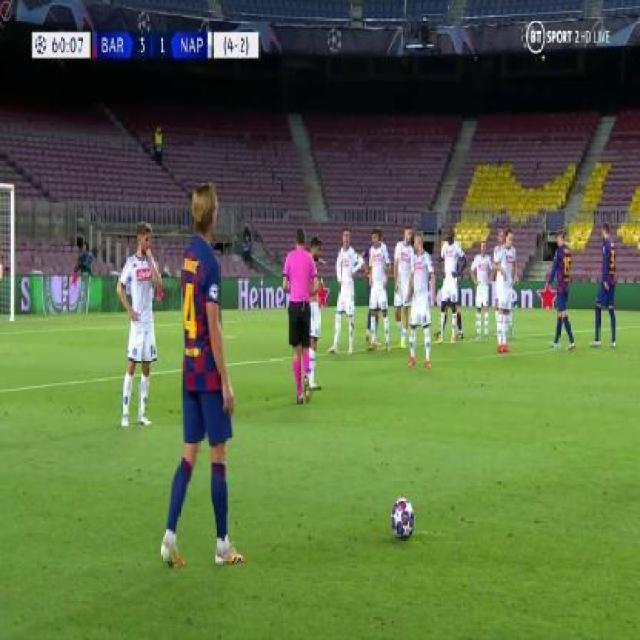ball: (386, 488, 419, 544)
player: (158, 164, 251, 575), (111, 215, 165, 437), (276, 220, 324, 403), (403, 228, 437, 377), (327, 226, 363, 360), (360, 226, 393, 354), (589, 224, 620, 352), (434, 221, 465, 346), (490, 226, 518, 355), (547, 233, 576, 353), (390, 221, 415, 349), (470, 233, 493, 342)
